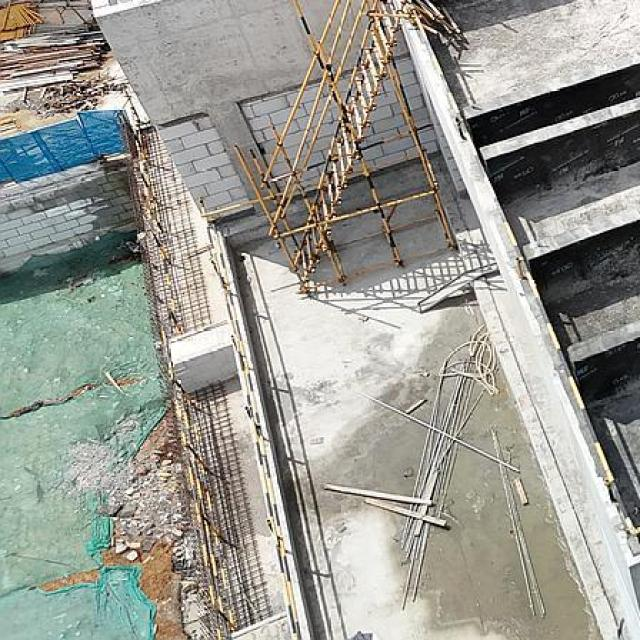Guardrail: (409, 5, 638, 542), (132, 138, 239, 633), (196, 200, 301, 640)
